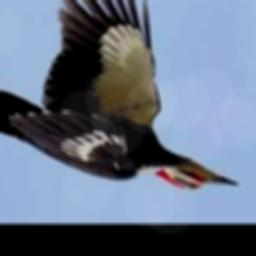Woodpecker: (0, 0, 240, 191)
